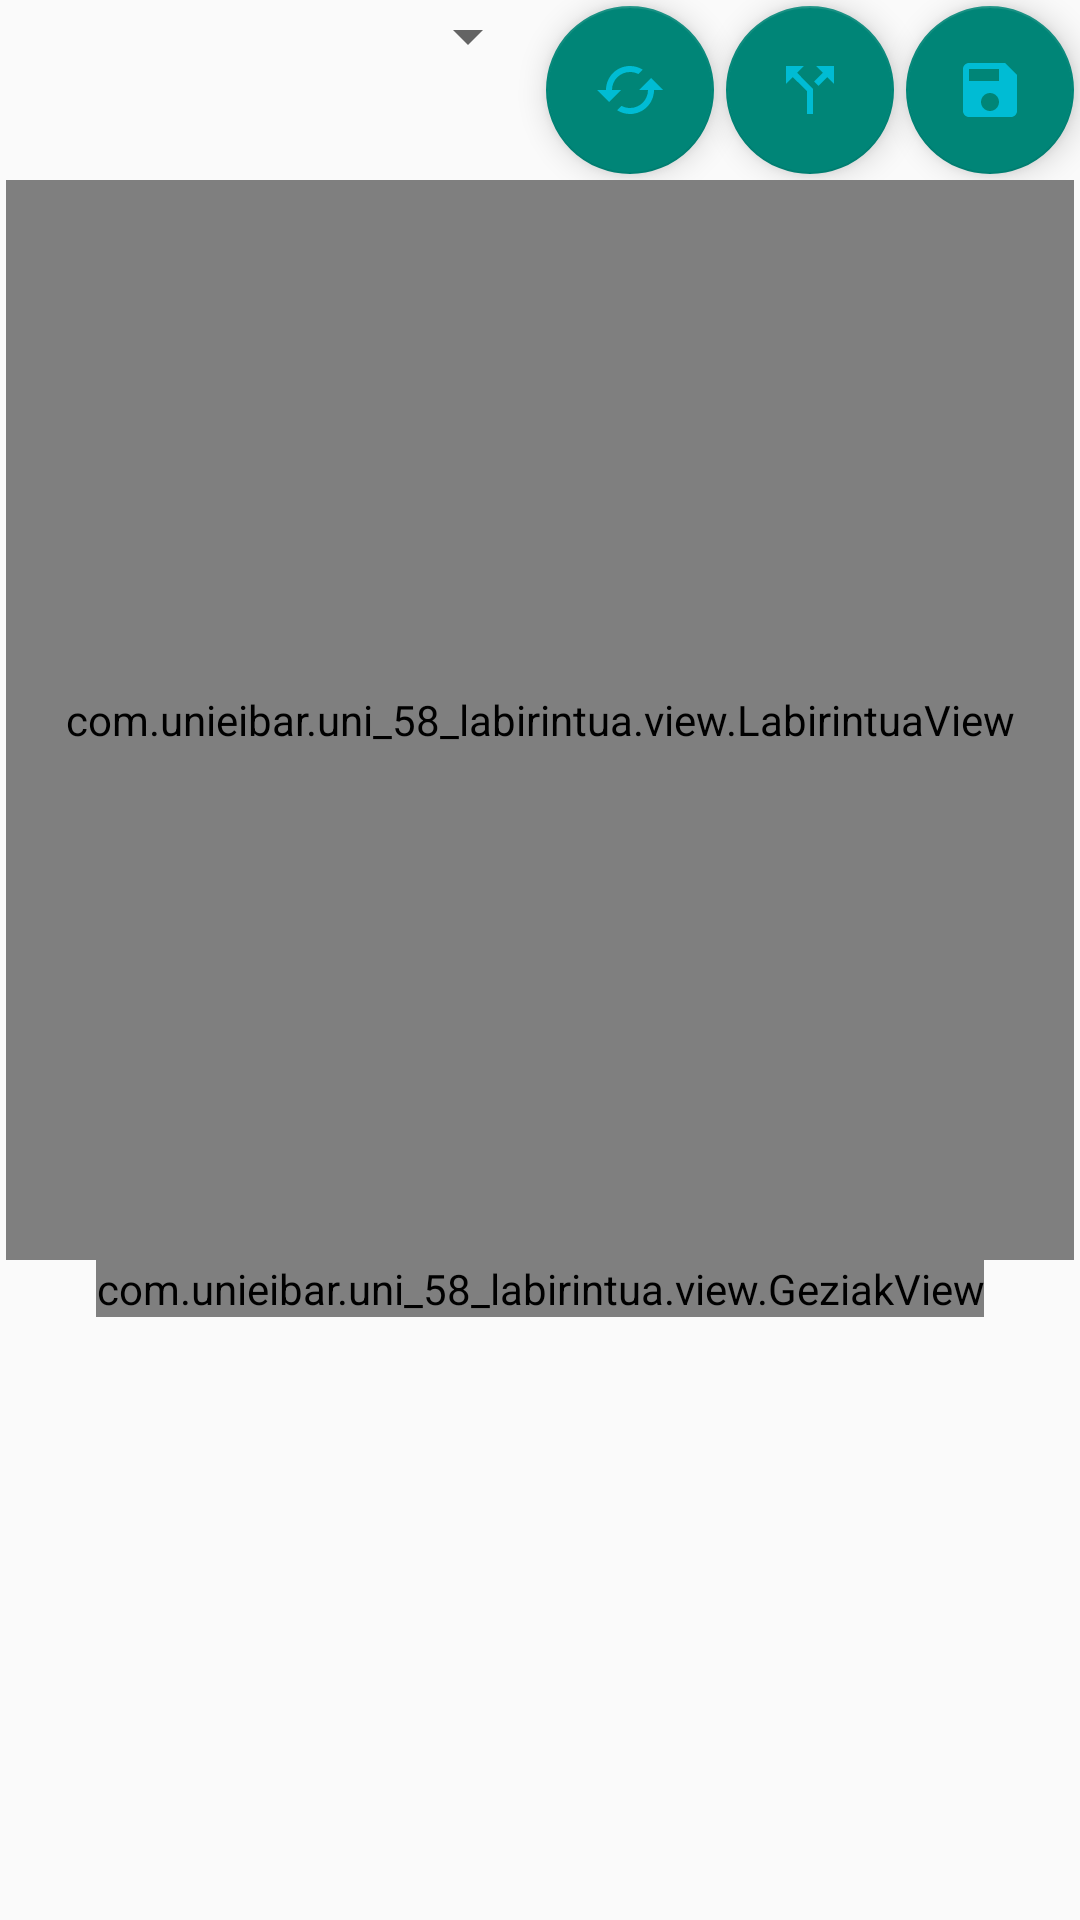

Named icons in this screenshot (1080px×1920px) and their bounding boxes, (x1, y1, x2, y2):
gorde: (906, 6, 1074, 174)
New Maze: (546, 6, 714, 174)
